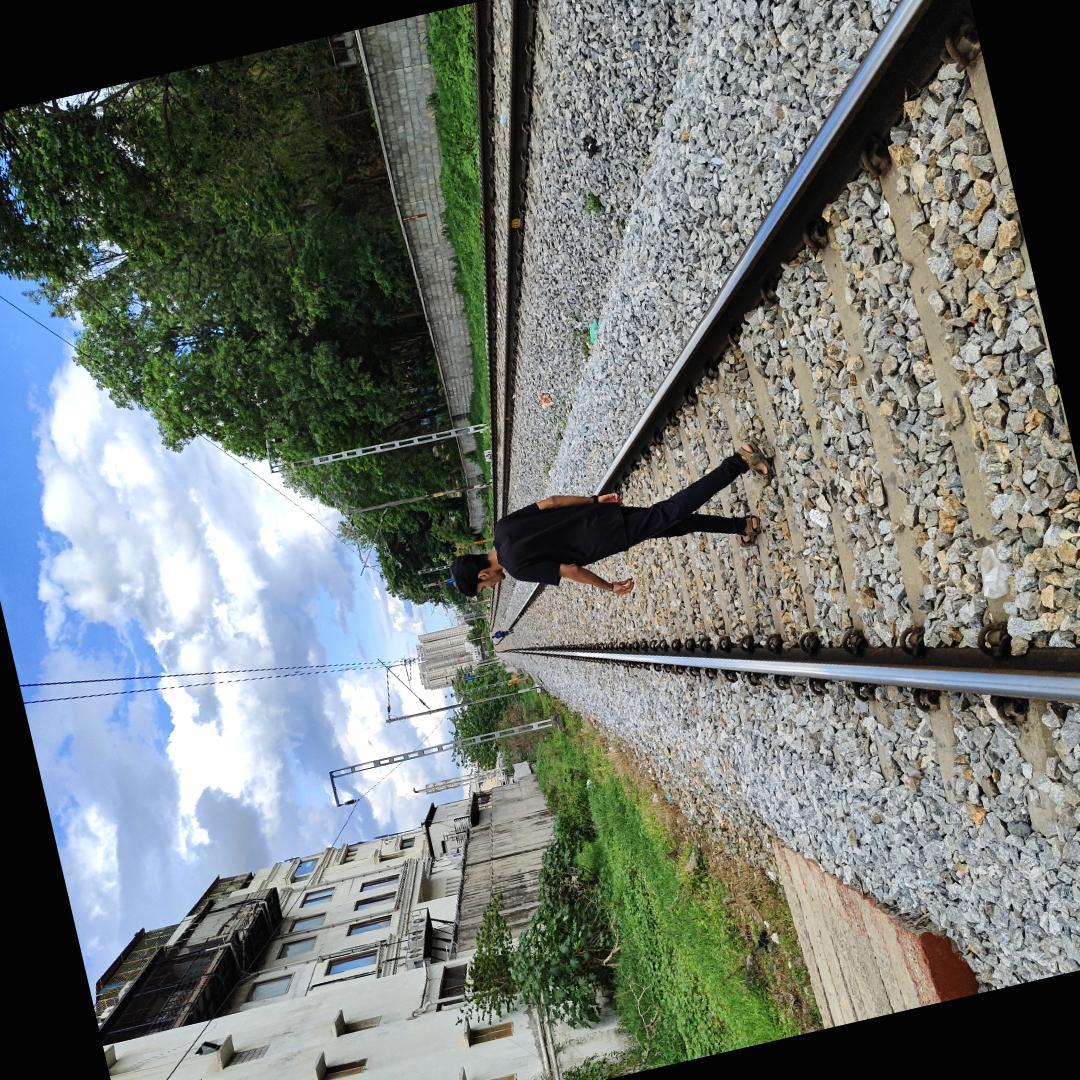standing: (420, 430, 784, 640)
